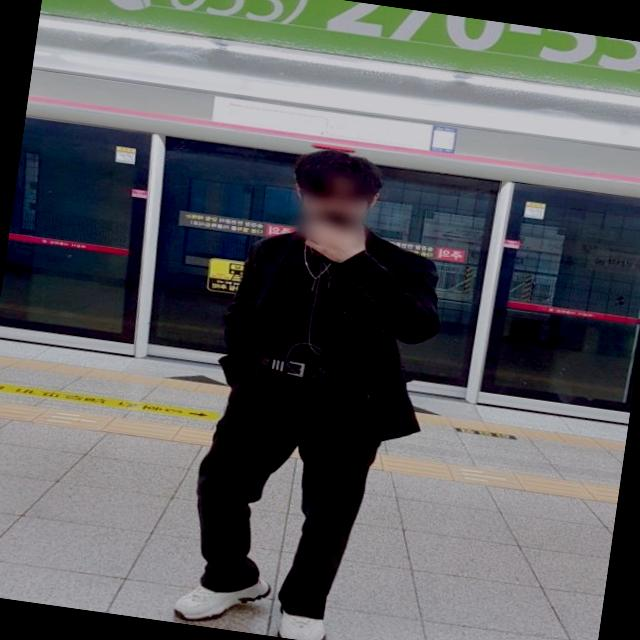blazer: (208, 210, 452, 450)
slacks: (182, 352, 398, 624)
